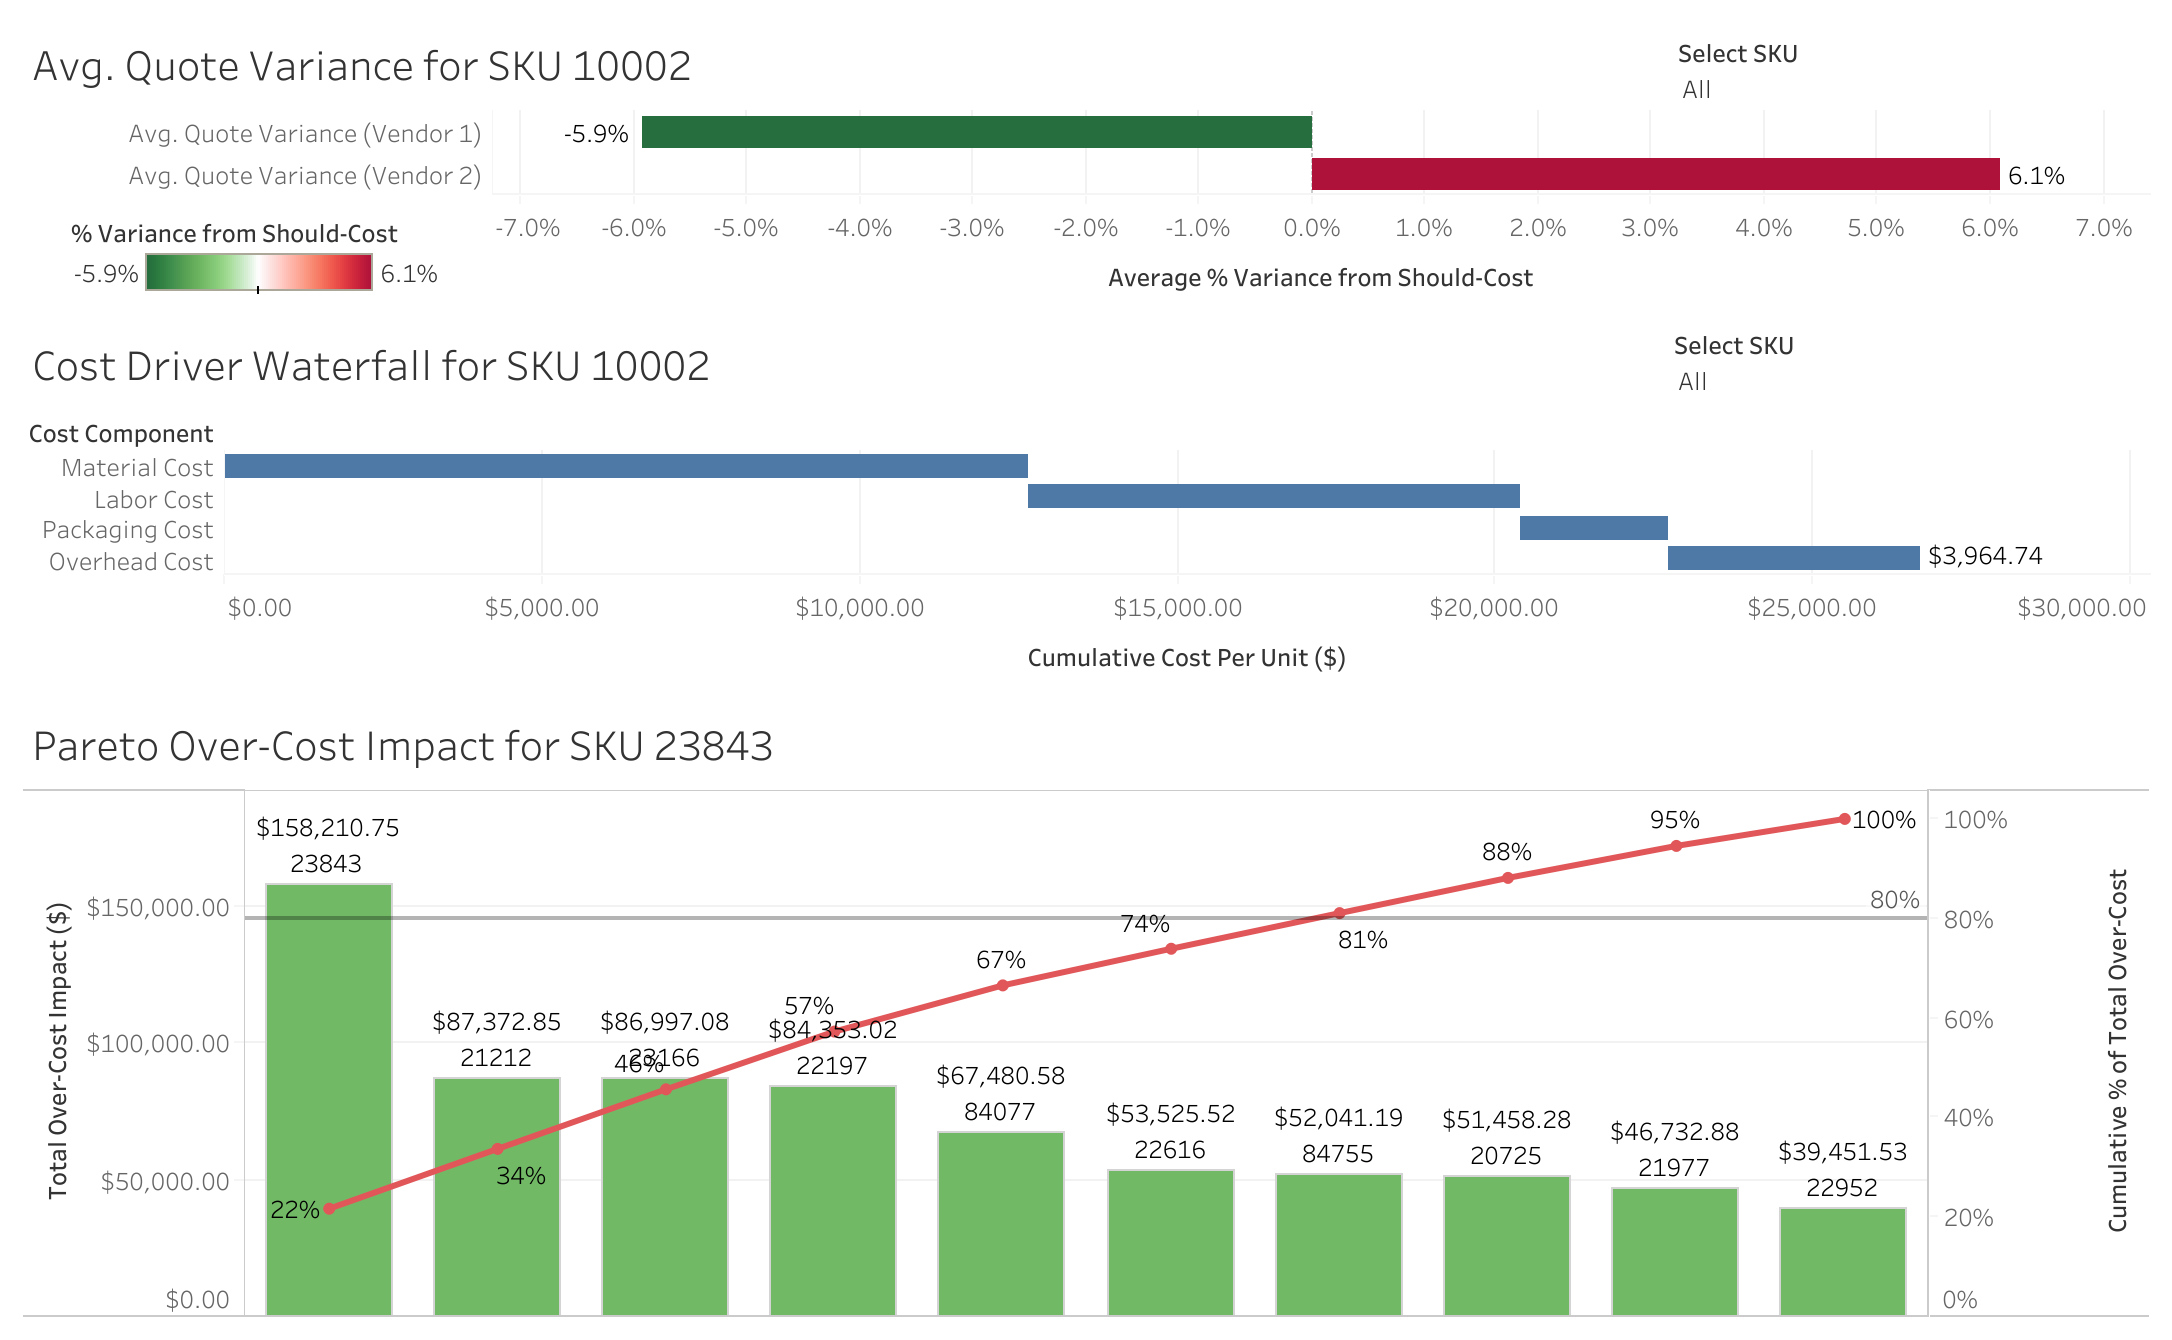

What the dashboard file says about the page in this screenshot:
{"tool":"tableau","page":{"name":"Dashboard 1","canvas":[1087,671],"ordinal":0},"visuals":[{"type":"worksheet","title":"KPI Overview","mark":"Automatic","box":[8,8,1071,149.5]},{"type":"filter","title":"KPI Overview","param":"[federated.0fnda7x0rv7p5l14laz6x0gw2gl4].[none:StockCode:ok]","box":[839,16,168,63]},{"type":"legend","title":"KPI Overview","param":"[federated.0fnda7x0rv7p5l14laz6x0gw2gl4].[Multiple Values]","box":[32.6,103.2,191.3,44.5]},{"type":"worksheet","title":"Cost Waterfall","mark":"GanttBar","rows":["Pivot Field Names"],"box":[8,157.5,1071,190.5]},{"type":"filter","title":"Cost Waterfall","param":"[federated.0fnda7x0rv7p5l14laz6x0gw2gl4].[none:StockCode:ok]","box":[837,162,168,64]},{"type":"worksheet","title":"Pareto Over-Cost Impact","mark":"Line","rows":["TotalDiscrepancyImpact_Vendor2"],"cols":["StockCode"],"box":[8,348,1071,315]}]}

Visuals, with their boxes in screenshot pixels (x1, y1, x2, y2), scaled from the page's 1087x671 canvas onto the 2172x1340 screenshot:
"KPI Overview" worksheet: <bbox>16, 16, 2156, 315</bbox>
"KPI Overview" filter: <bbox>1676, 32, 2012, 158</bbox>
"KPI Overview" legend: <bbox>65, 206, 447, 295</bbox>
"Cost Waterfall" worksheet (GanttBar marks): <bbox>16, 315, 2156, 695</bbox>
"Cost Waterfall" filter: <bbox>1672, 324, 2008, 451</bbox>
"Pareto Over-Cost Impact" worksheet (Line marks): <bbox>16, 695, 2156, 1324</bbox>
